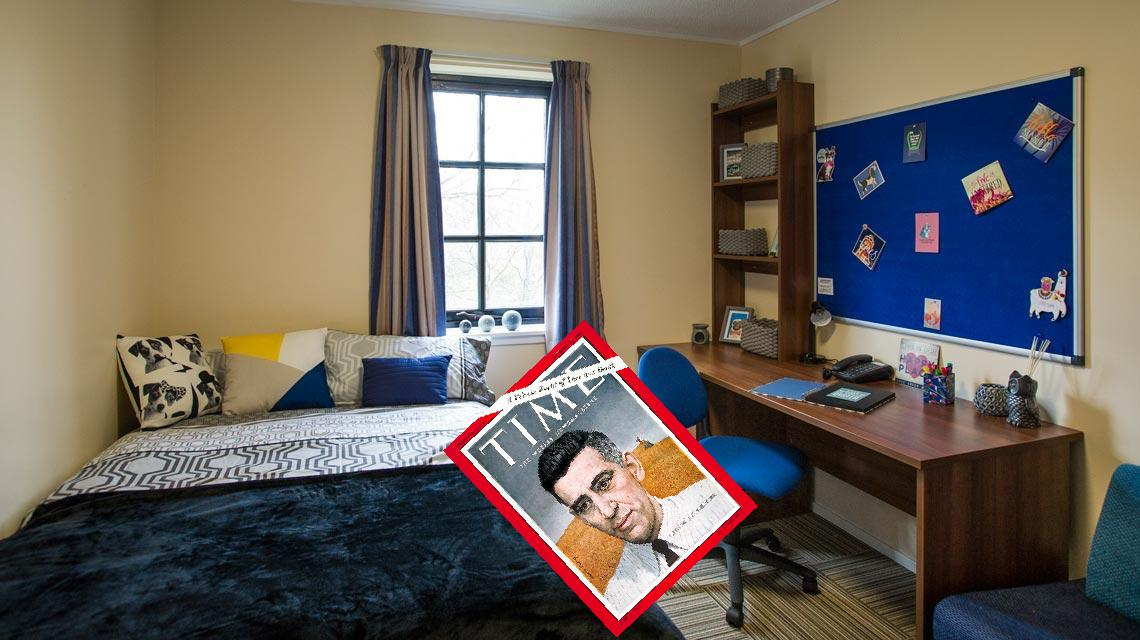times: (440, 320, 756, 637)
